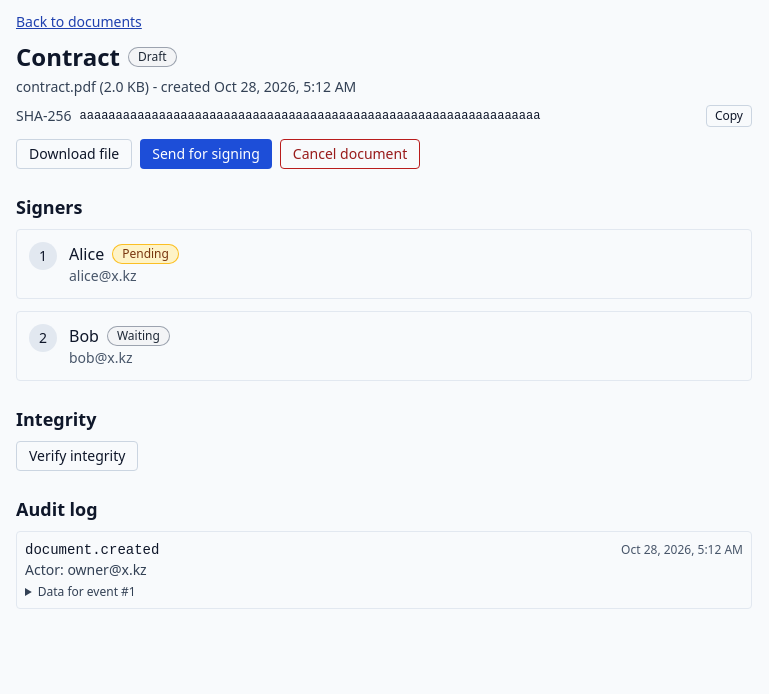
Test: document detail › collapses audit event data behind a details element
The width and height of the screenshot is (769, 694).
Click the heading "Data for event #1" at (87, 592), box [38,583,136,600]
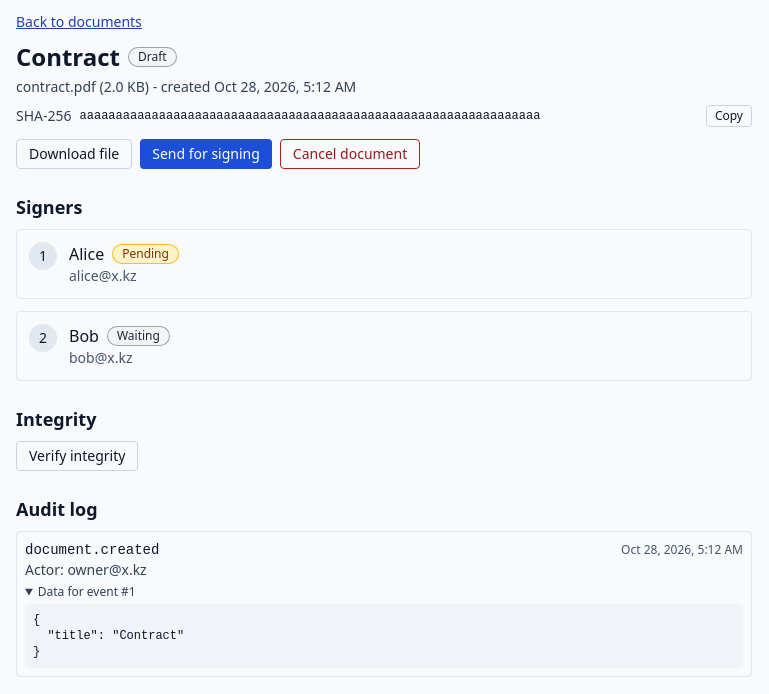
expect the text "Data for event #1" shows "\"title\": \"Contract\"": met, box [33,613,184,659]
